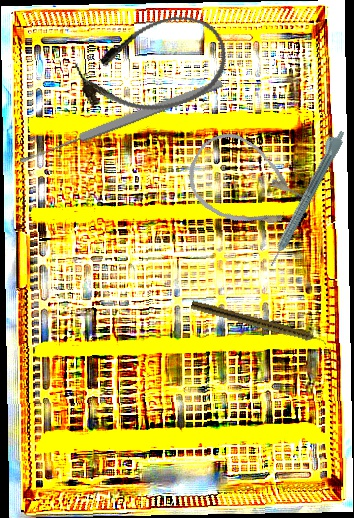Cannula: (69, 6, 237, 128), (175, 122, 314, 247)
Handpiece: (260, 126, 348, 269), (189, 300, 329, 348)
Surgical Spoon: (18, 77, 224, 167)
